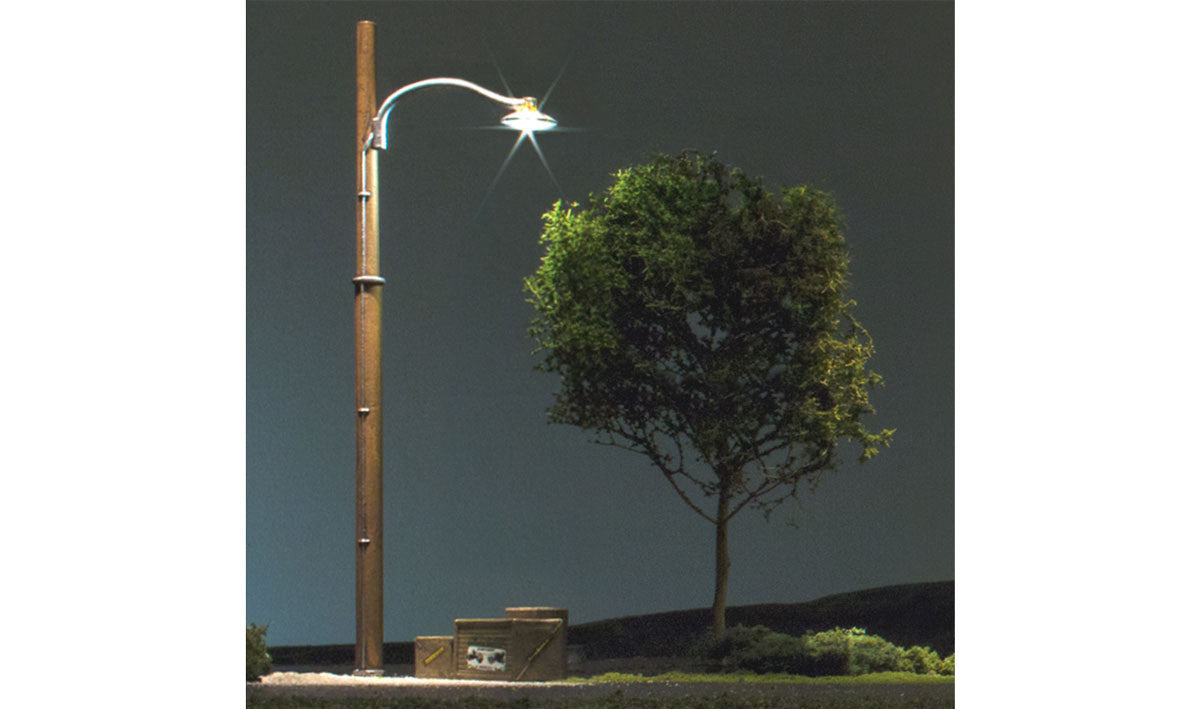light_pole: (341, 7, 402, 688)
